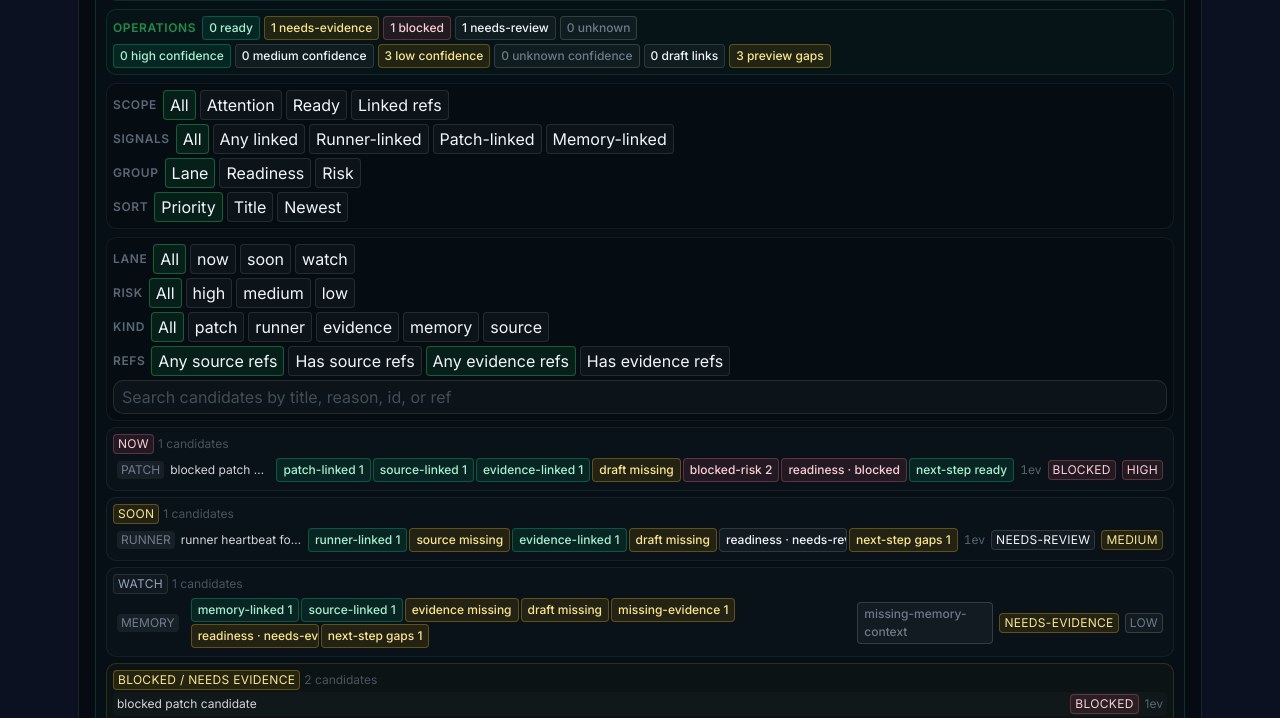
Test: E7 — WorkItem Candidate Board / Triage View › filters locally by source/evidence ref presence and search text
(page scrolled)
Click the button with test id "wic-filter-sourceRefs" at x=355, y=360, box [288,346,422,376]
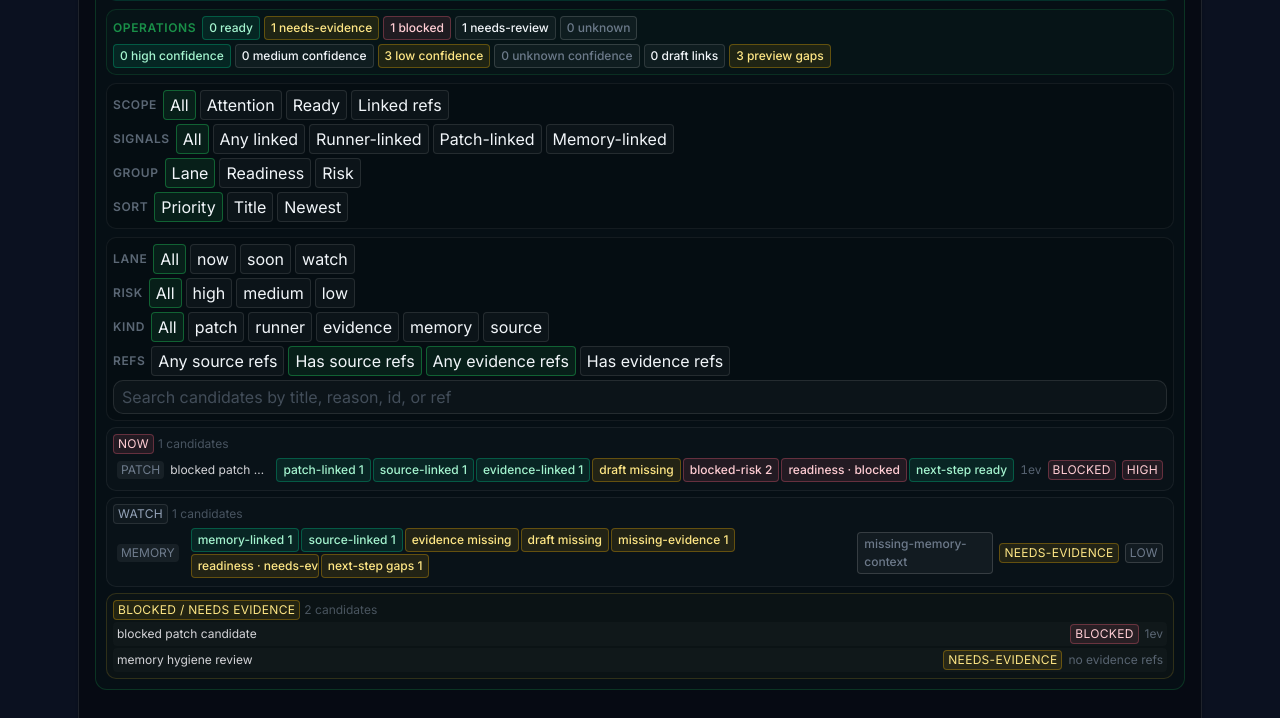
Expected: the button with test id "wic-row-wic-now-patch" is shown, [113,456,1167,484]
Now the button with test id "wic-row-wic-soon-runner" is gone
Click the button with test id "wic-filter-sourceRefs-all" at x=218, y=360, box [151,346,284,376]
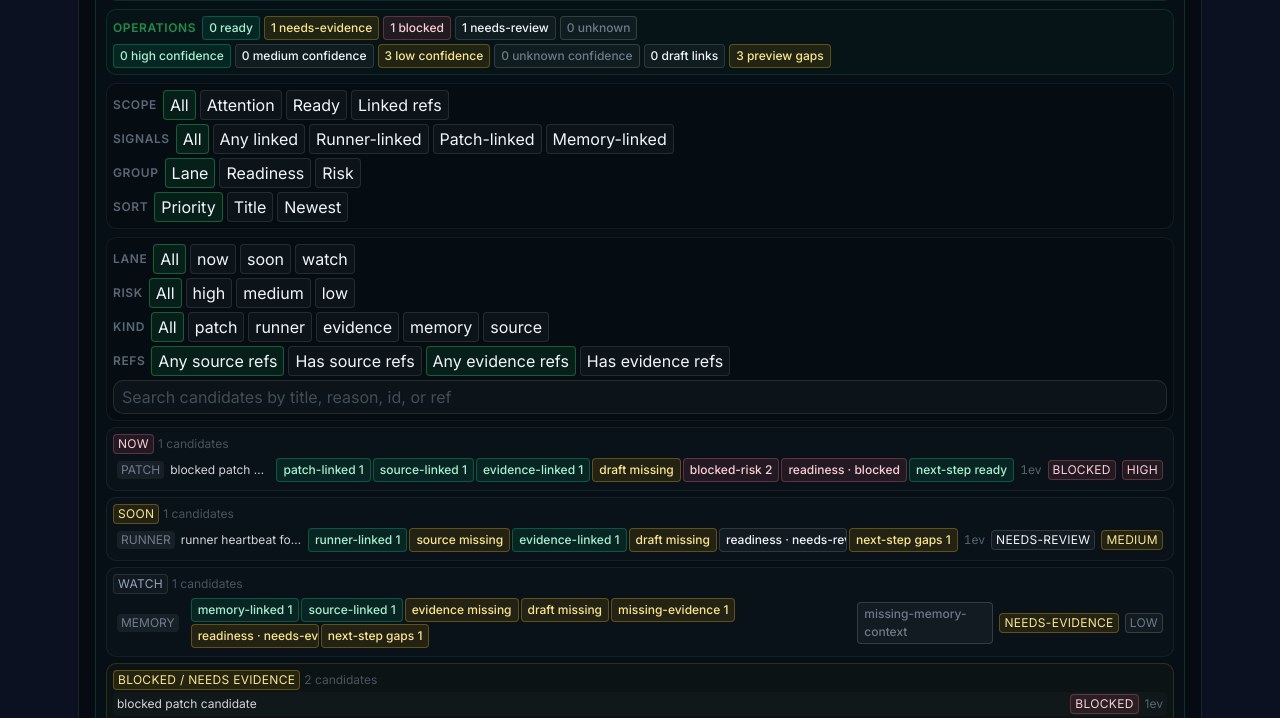
Click the button with test id "wic-filter-evidenceRefs" at x=655, y=360, box [580,346,730,376]
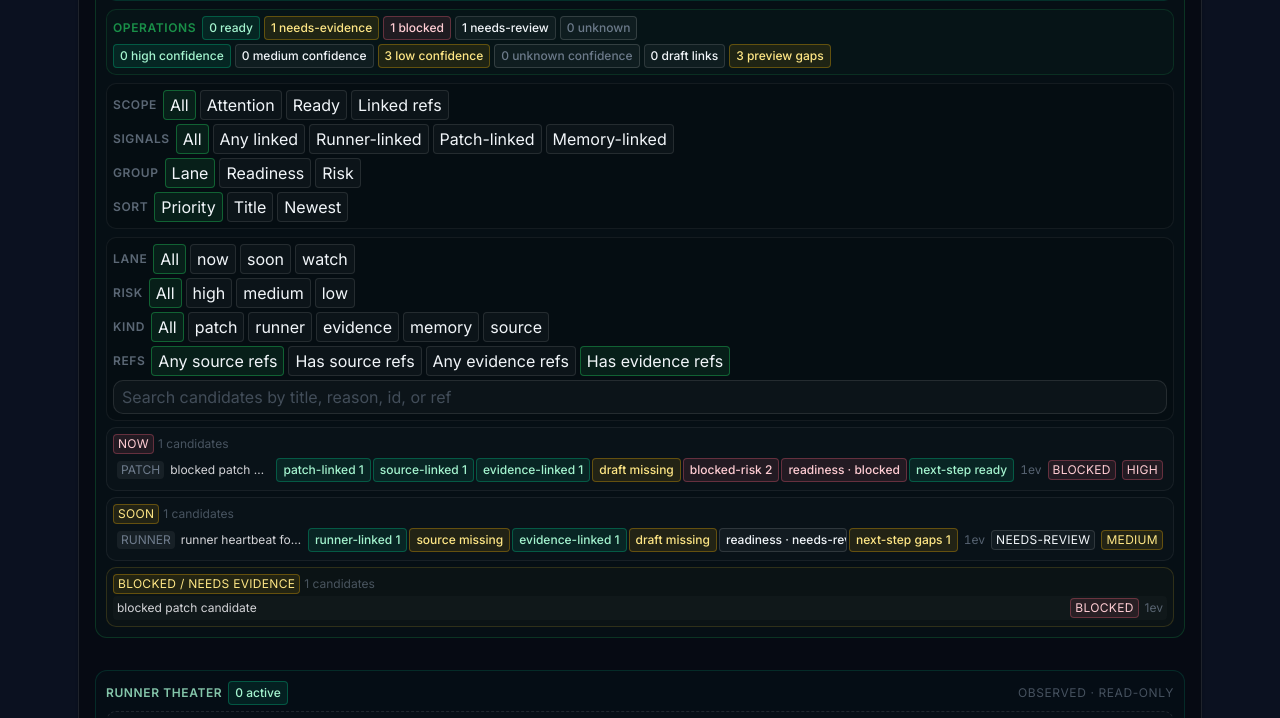
Expected: the button with test id "wic-row-wic-now-patch" is shown, [113,456,1167,484]
Now the button with test id "wic-row-wic-soon-runner" is shown, box [113,526,1167,554]
Now the button with test id "wic-row-wic-watch-memory" is gone
Click the button with test id "wic-filter-evidenceRefs-all" at x=501, y=360, box [426,346,576,376]
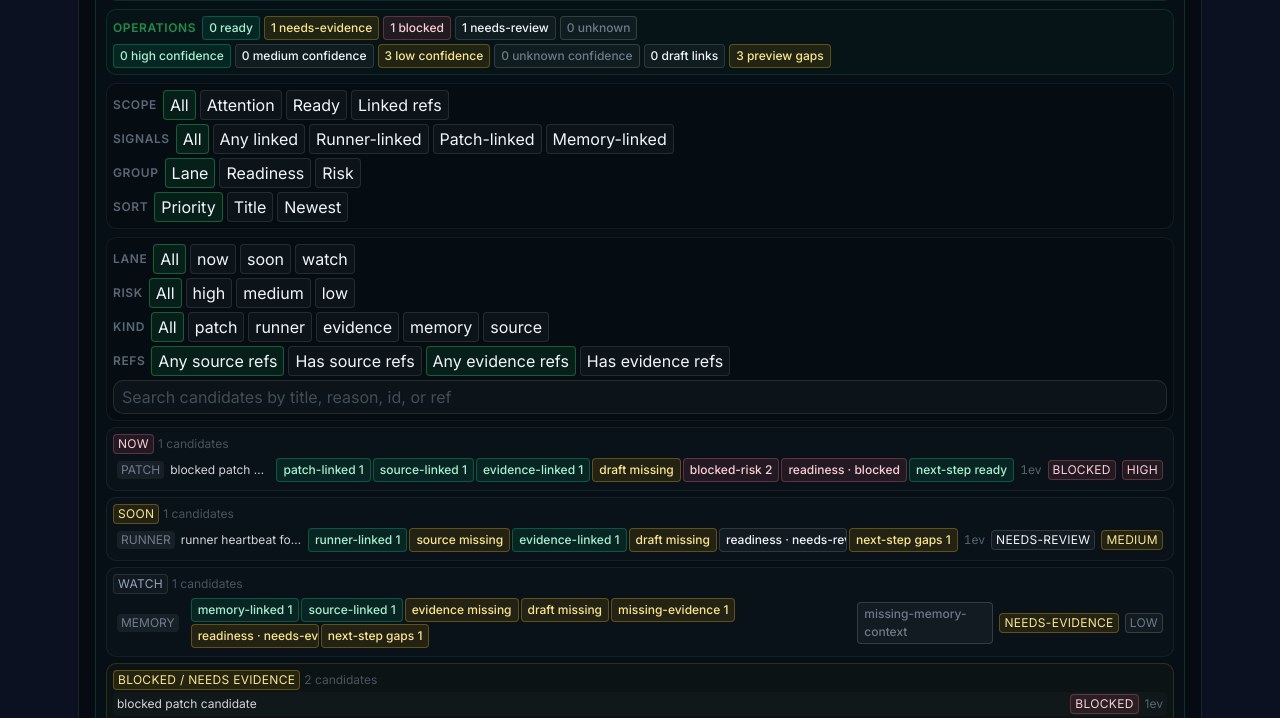
Type "heartbeat" into the field with test id "wic-search" at x=640, y=396, box [113,380,1167,414]
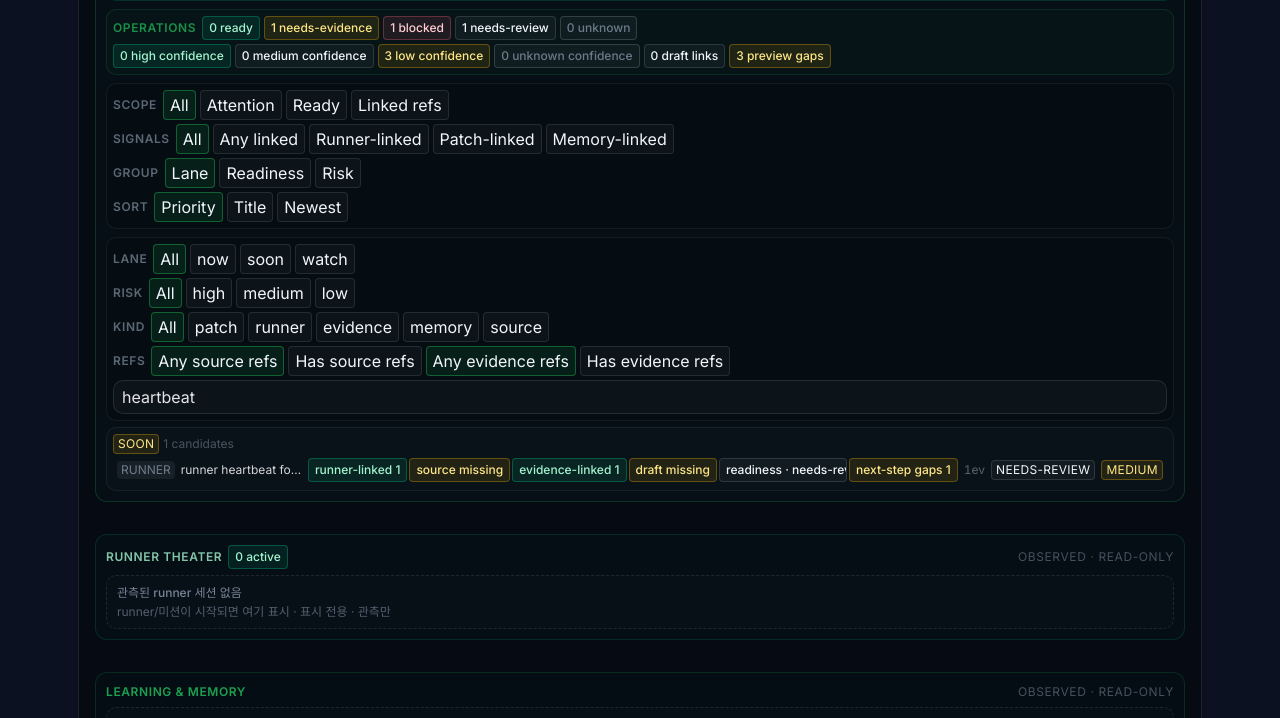
Now the button with test id "wic-row-wic-soon-runner" is shown, box [113,456,1167,484]
Now the button with test id "wic-row-wic-now-patch" is gone
